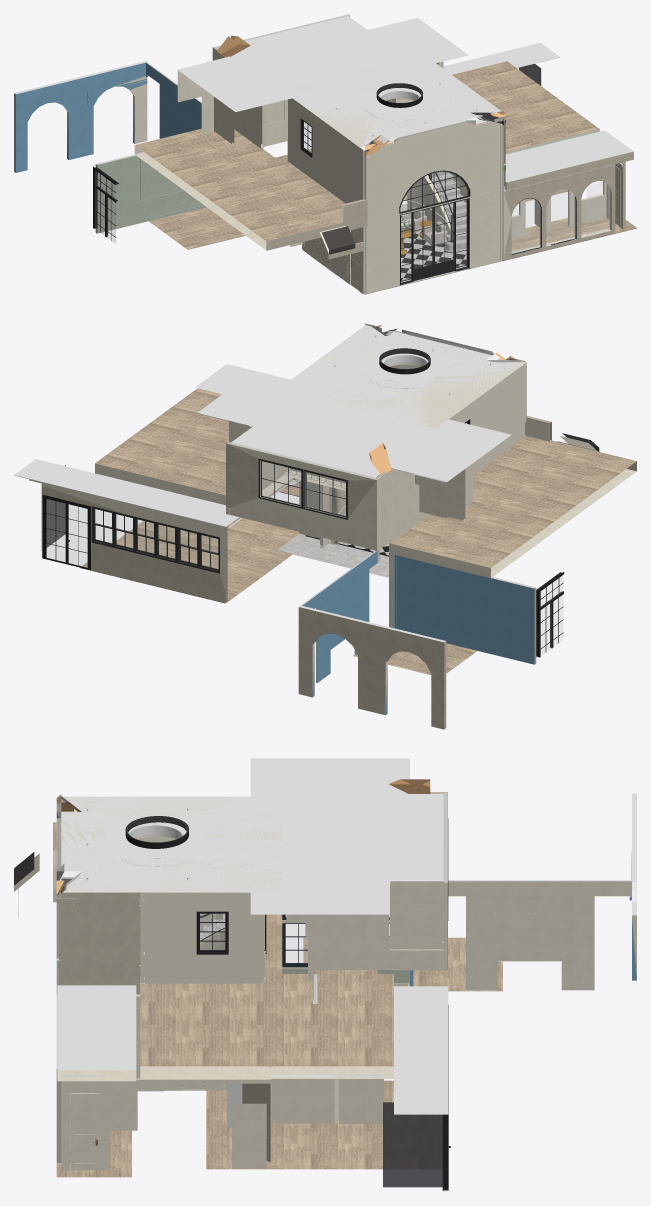
Rendered from entry-38b61c6ef461.glb.
3 views of the same model, one above another, from view 1: azimuth 30°, elevation 25°; view 2: azimuth 150°, elevation 25°; view 3: azimuth 270°, elevation 25° (orthographic). The views are drawn at different scales.
Parts seen in each view (by area): view 1: entry-look-2575515a05775d9e, entry-look-9d91b47435c6fb33, entry-9d91b47435c6fb33, entry-4edf3a9420c06709, entry-look-969b861f9850351e, entry-698abdfdc6fb970d, entry-look-b19b106fc304963c, entry-746250f96522f643, entry-look-dbd60ee5c3733ed6, entry-9ca48b730e5de4b2, entry-look-c9e78b9ec1bb39cd, entry-785988ccf932ddd5 (+30 smaller); view 2: entry-look-2575515a05775d9e, entry-look-9d91b47435c6fb33, entry-look-b19b106fc304963c, entry-9d91b47435c6fb33, entry-look-969b861f9850351e, entry-look-245f595ae2832e16, entry-look-3b0077416469e01b, entry-look-bfb9fa537cd11d1d, entry-e8793759323e04f0, entry-look-9a0e9ee9b2a451d7, entry-746250f96522f643, entry-look-3e6709f91b43c3bf (+16 smaller); view 3: entry-look-2575515a05775d9e, entry-look-9d91b47435c6fb33, entry-9d91b47435c6fb33, entry-look-3e6709f91b43c3bf, entry-look-3b0077416469e01b, entry-c51ecd664a3b22a3, entry-look-dbd60ee5c3733ed6, entry-look-9a0e9ee9b2a451d7, entry-e8793759323e04f0, entry-62353aa10fc57f23, entry-look-cbd4bf73d9724a66, entry-look-55ff1dfd7b659ec1 (+23 smaller).
Part boxes in pixels (left/top/right/bottom): entry-look-2575515a05775d9e: left=134, top=61, right=599, bottom=250; entry-look-9d91b47435c6fb33: left=178, top=16, right=468, bottom=112; entry-9d91b47435c6fb33: left=281, top=54, right=500, bottom=149; entry-4edf3a9420c06709: left=365, top=120, right=503, bottom=221; entry-look-969b861f9850351e: left=14, top=61, right=147, bottom=172; entry-698abdfdc6fb970d: left=400, top=198, right=469, bottom=285; entry-look-b19b106fc304963c: left=95, top=152, right=202, bottom=233; entry-746250f96522f643: left=287, top=98, right=361, bottom=203; entry-look-dbd60ee5c3733ed6: left=505, top=130, right=633, bottom=190; entry-9ca48b730e5de4b2: left=365, top=189, right=503, bottom=293; entry-look-c9e78b9ec1bb39cd: left=503, top=164, right=615, bottom=260; entry-785988ccf932ddd5: left=366, top=118, right=503, bottom=220; entry-look-2575515a05775d9e: left=95, top=388, right=636, bottom=578; entry-look-9d91b47435c6fb33: left=197, top=371, right=510, bottom=481; entry-look-b19b106fc304963c: left=397, top=555, right=536, bottom=664; entry-9d91b47435c6fb33: left=277, top=325, right=525, bottom=427; entry-look-969b861f9850351e: left=298, top=605, right=446, bottom=729; entry-look-245f595ae2832e16: left=226, top=442, right=377, bottom=551; entry-look-3b0077416469e01b: left=80, top=518, right=476, bottom=674; entry-look-bfb9fa537cd11d1d: left=42, top=482, right=227, bottom=602; entry-e8793759323e04f0: left=307, top=326, right=525, bottom=428; entry-look-9a0e9ee9b2a451d7: left=14, top=459, right=238, bottom=526; entry-746250f96522f643: left=449, top=363, right=524, bottom=474; entry-look-3e6709f91b43c3bf: left=302, top=551, right=377, bottom=682; entry-look-2575515a05775d9e: left=53, top=822, right=393, bottom=1078; entry-look-9d91b47435c6fb33: left=250, top=758, right=442, bottom=914; entry-9d91b47435c6fb33: left=61, top=796, right=282, bottom=892; entry-look-3e6709f91b43c3bf: left=448, top=880, right=631, bottom=989; entry-look-3b0077416469e01b: left=206, top=937, right=502, bottom=1169; entry-c51ecd664a3b22a3: left=145, top=892, right=264, bottom=983; entry-look-dbd60ee5c3733ed6: left=57, top=985, right=136, bottom=1081; entry-look-9a0e9ee9b2a451d7: left=394, top=986, right=448, bottom=1114; entry-e8793759323e04f0: left=58, top=794, right=282, bottom=892; entry-62353aa10fc57f23: left=61, top=892, right=140, bottom=994; entry-look-cbd4bf73d9724a66: left=383, top=1102, right=443, bottom=1187; entry-look-55ff1dfd7b659ec1: left=448, top=880, right=631, bottom=990.
Bounding box in the file's own units: 21.06 × 7.01 × 18.
Materials: 68 (11 with a texture image).
